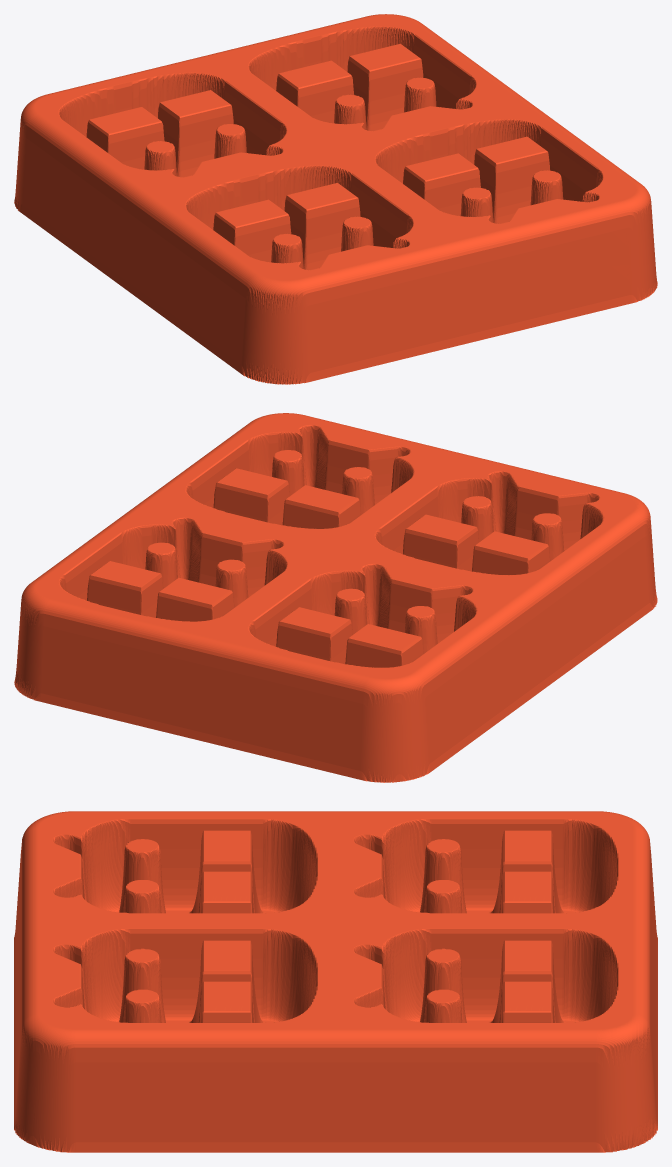
The model's file is mold.glb.
The picture shows the model from 3 angles, top to bottom: view 1: azimuth 30°, elevation 25°; view 2: azimuth 150°, elevation 25°; view 3: azimuth 270°, elevation 25°; orthographic projection. The views are drawn at different scales.
Visible parts, largest first — view 1: geometry_0; view 2: geometry_0; view 3: geometry_0.
Part boxes in pixels (x1,y1,x2,y2): geometry_0: (14,14,657,384); geometry_0: (14,413,657,782); geometry_0: (14,811,657,1152).
Bounding box in the file's own units: 0.0822 × 0.0182 × 0.0942.
